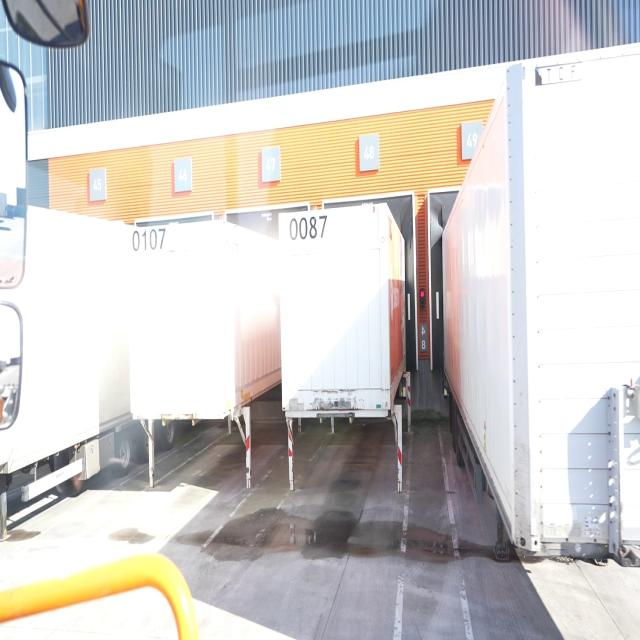Code: (286, 212, 330, 241), (130, 225, 172, 255)
